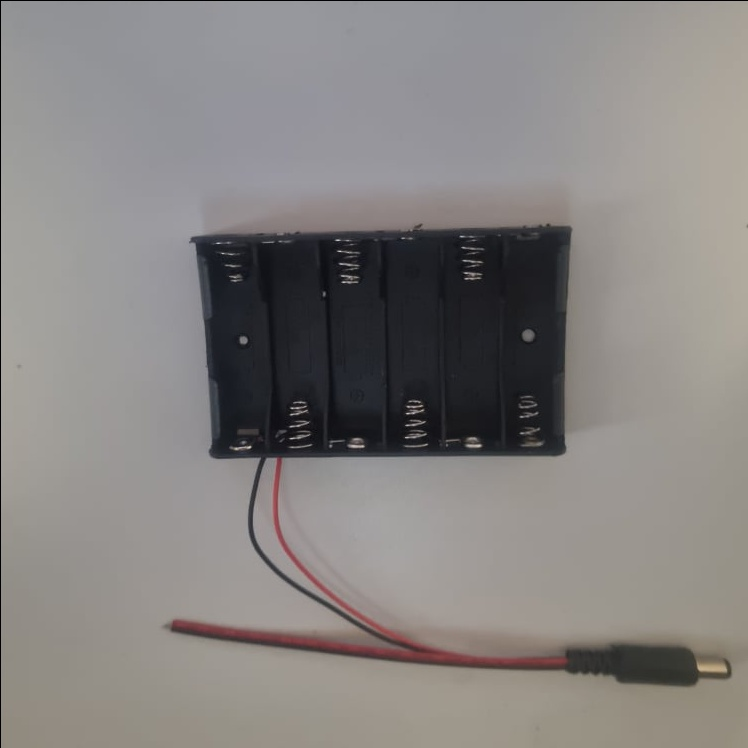BATTERY BOX: (188, 222, 573, 458)
